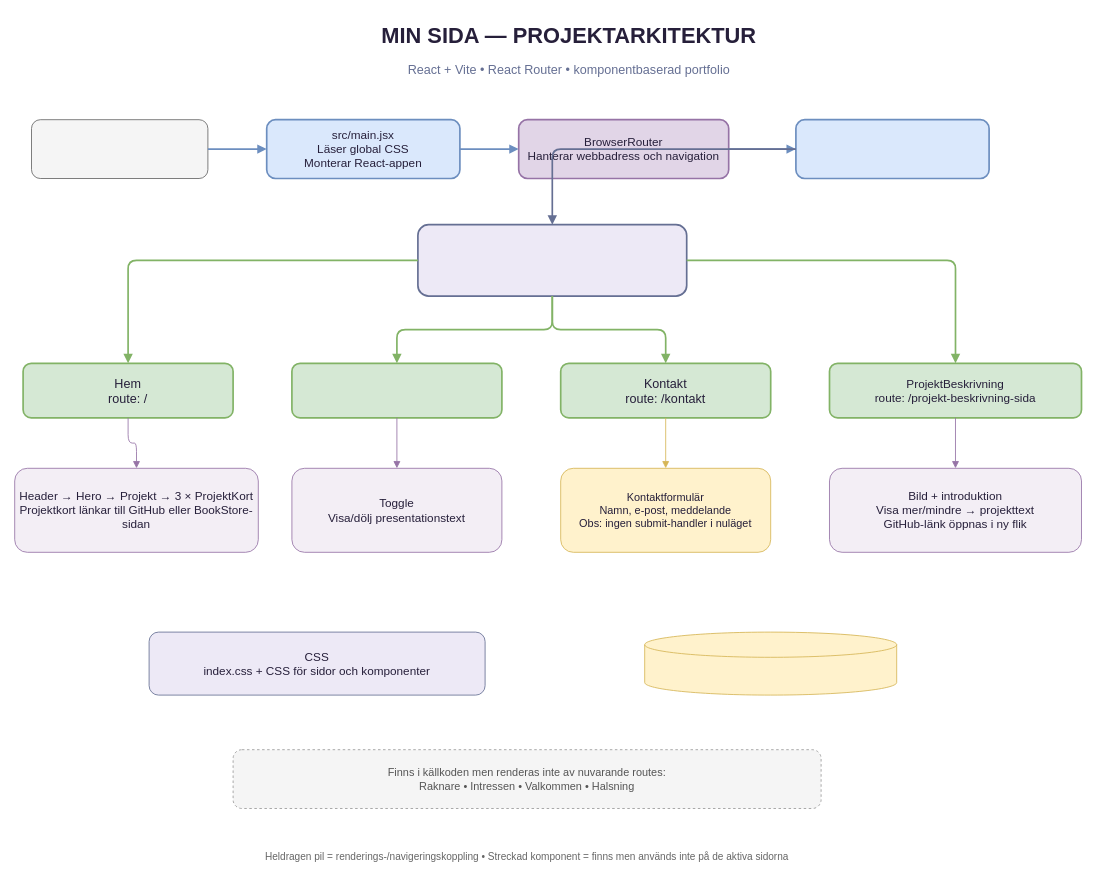
This 1097x885 diagram has some shape labels left out. The shapes that lost their labels are listed below. From the top down, each one's centre as x and y in pixels, then its label:
(119,148): index.html React-monteringspunkt
(892,148): src/App.jsx Gemensamt applager
(552,260): Gemensamt applager Navbar + Routes + Footer Route väljs utifrån URL
(396,390): OmMig route: /om-mig
(770,663): src/assets Hero- och projektbilder
